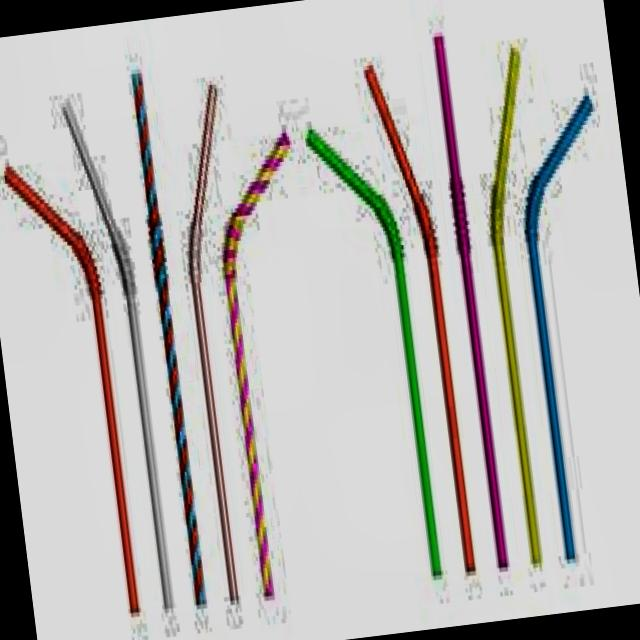plastic straw: (308, 131, 442, 575), (7, 166, 139, 612), (367, 66, 475, 571), (65, 103, 172, 608), (131, 71, 205, 604), (434, 34, 507, 567), (525, 94, 592, 559), (223, 134, 289, 595), (490, 47, 541, 563), (188, 84, 238, 600)
